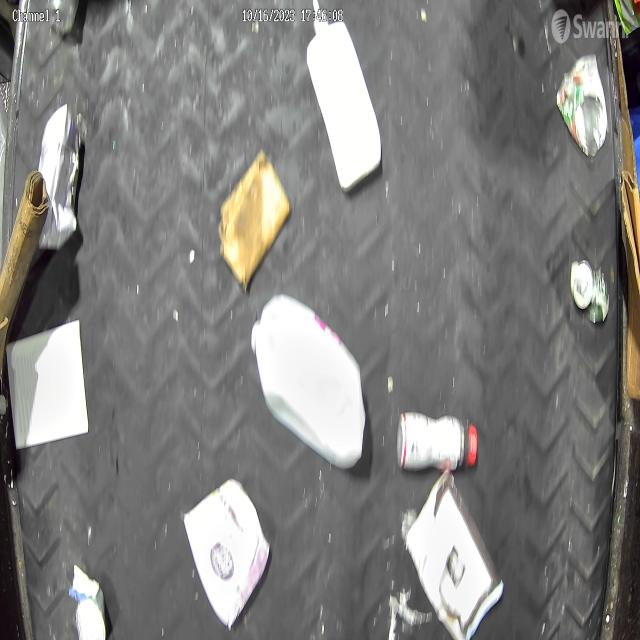can: (556, 54, 608, 158), (68, 566, 108, 640), (570, 258, 611, 326)
milk_jug: (250, 293, 368, 470)
plastic_bottle: (396, 409, 478, 469)
